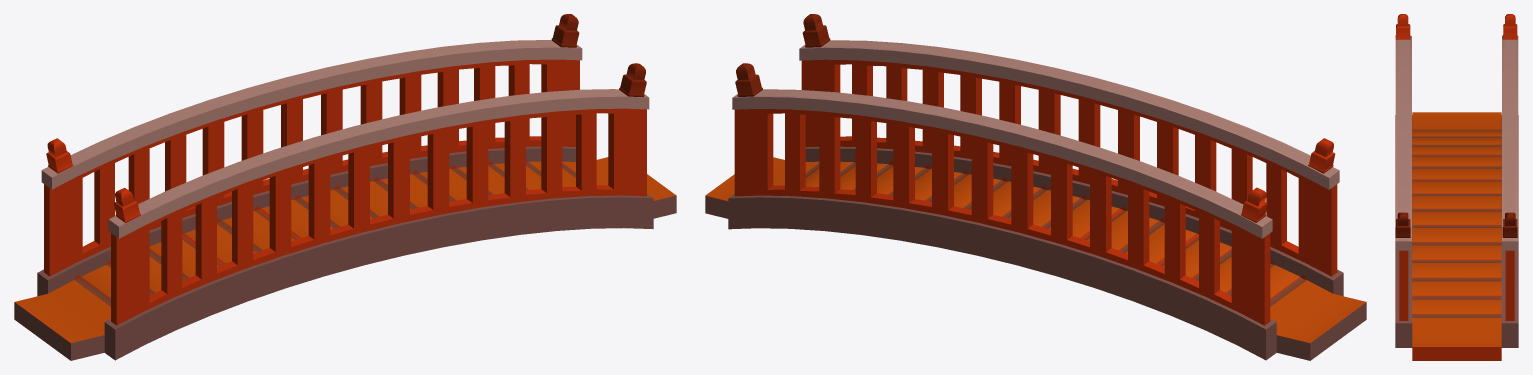
Rendered from map_bridge.glb.
The picture shows the model from 3 angles, left to right: view 1: azimuth 30°, elevation 25°; view 2: azimuth 150°, elevation 25°; view 3: azimuth 270°, elevation 25°; orthographic projection. The views are drawn at different scales.
Parts seen in each view (by area): view 1: Bridge; view 2: Bridge; view 3: Bridge.
Boxes of the visible parts, x1,y1,x2,y2 form: Bridge: (14, 14, 676, 360); Bridge: (705, 14, 1366, 360); Bridge: (1395, 14, 1518, 360).
Size of the model in its own units: 4 by 1.05 by 0.8889.
